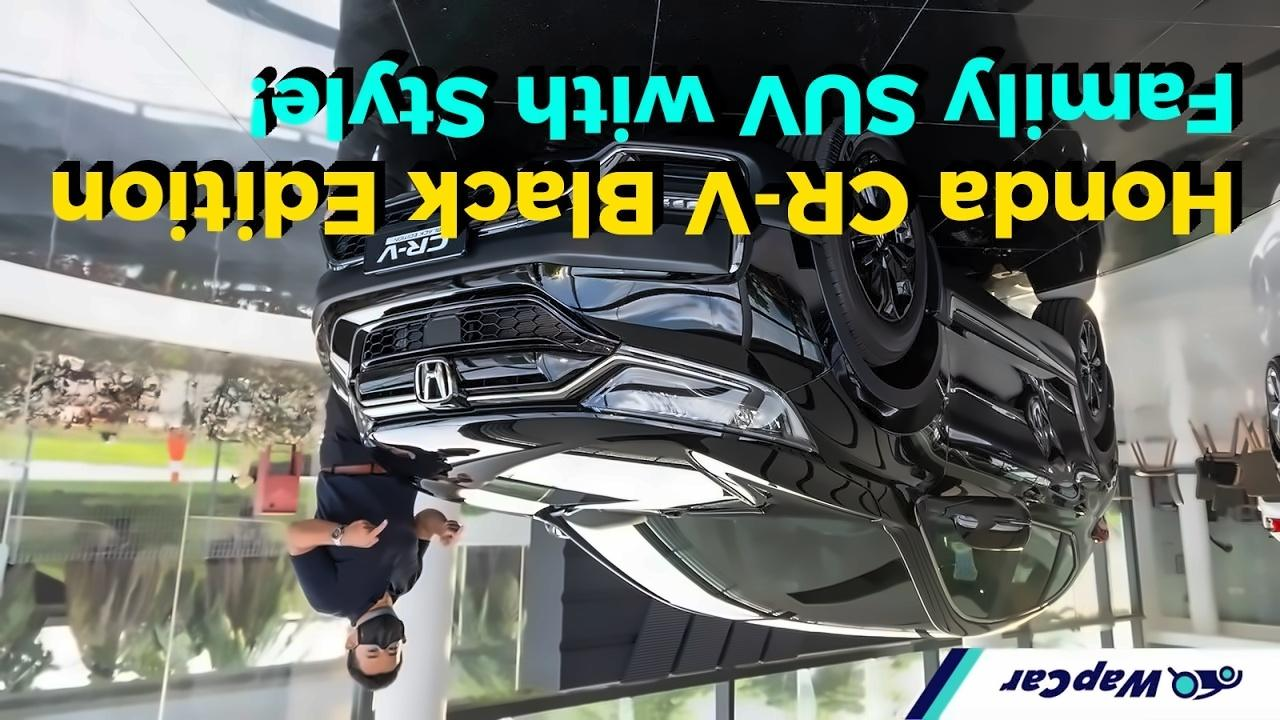Car hood: (344, 410, 804, 516)
Driver-s door - -F-R-: (934, 298, 1051, 643)
Fender - -F-R-: (785, 242, 949, 524)
Front bumper: (306, 129, 838, 356)
Headlight - -L-: (330, 379, 381, 451)
Headlight - -R-: (572, 352, 821, 454)
Passenger-s door - -R-R-: (994, 326, 1096, 634)
Rear light - -R-: (1082, 506, 1125, 548)
Side bumper - -R-: (919, 247, 1083, 390)
Side mirror - -R-: (927, 490, 1037, 554)
